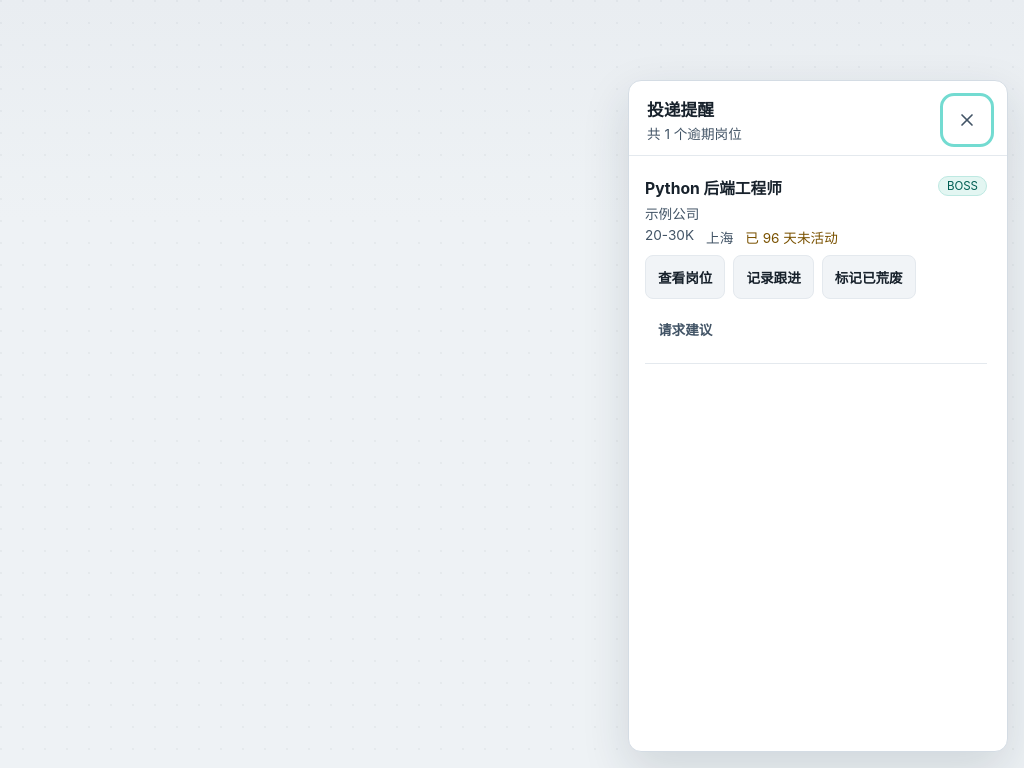
Test: T050 快捷动作：逐项 busy、服务端刷新决定去留、失败保留 › 操作失败：保留原项、显示真实 API 文案、按钮恢复可用
What coordinates should you click on to do the following:
click the button with test id "btn-mark-stale"
I would click on:
 (869, 277)
Its box is 822,255 -> 916,299.
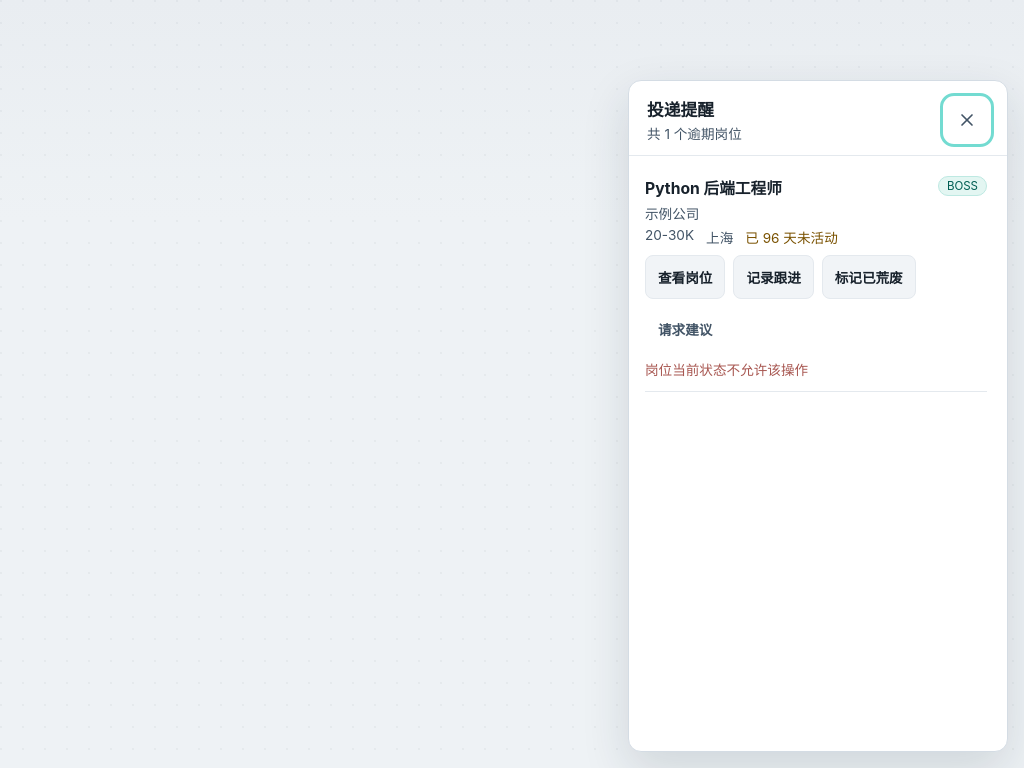
Check: the list item with test id "reminder-item" is shown, box 645,164 -> 987,392
Check: the message with test id "item-action-error" reads "岗位当前状态不允许该操作", box 645,362 -> 808,378
